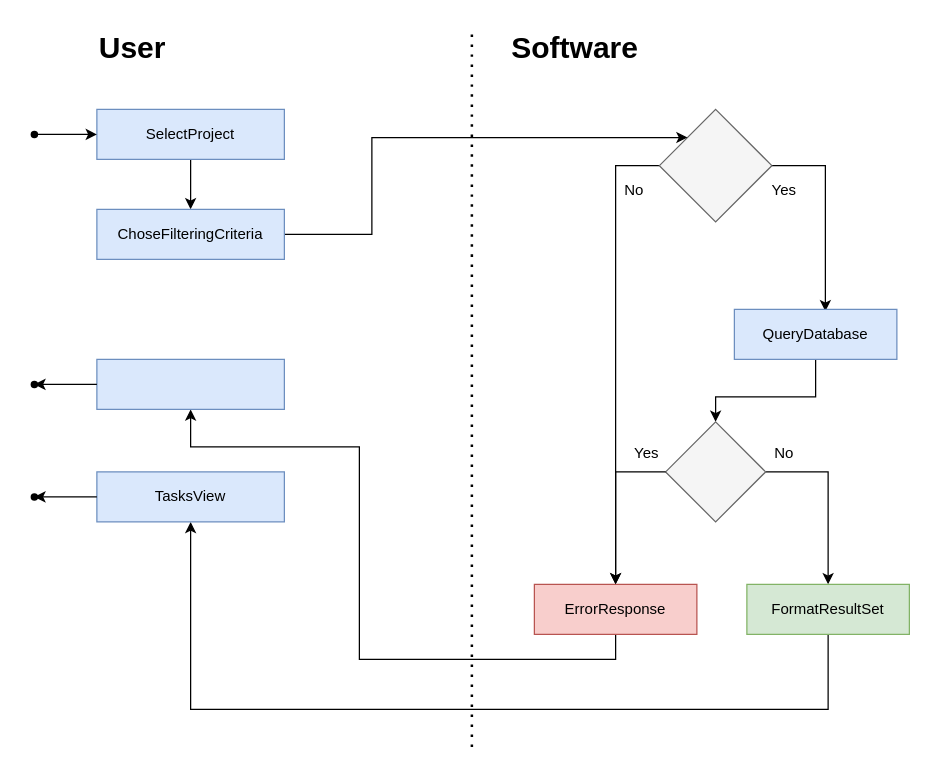
Some shapes in this 931 by 770 pixel diagram are drawn without their labels. The shapes that lost their labels are listed below. From the top down, each one's box as (x1, y1, x2, y2) in pixels, then its label:
(658, 108, 772, 222): IsAuthenticated
(96, 358, 284, 409): ErrorMessageView
(664, 421, 766, 522): DbError
